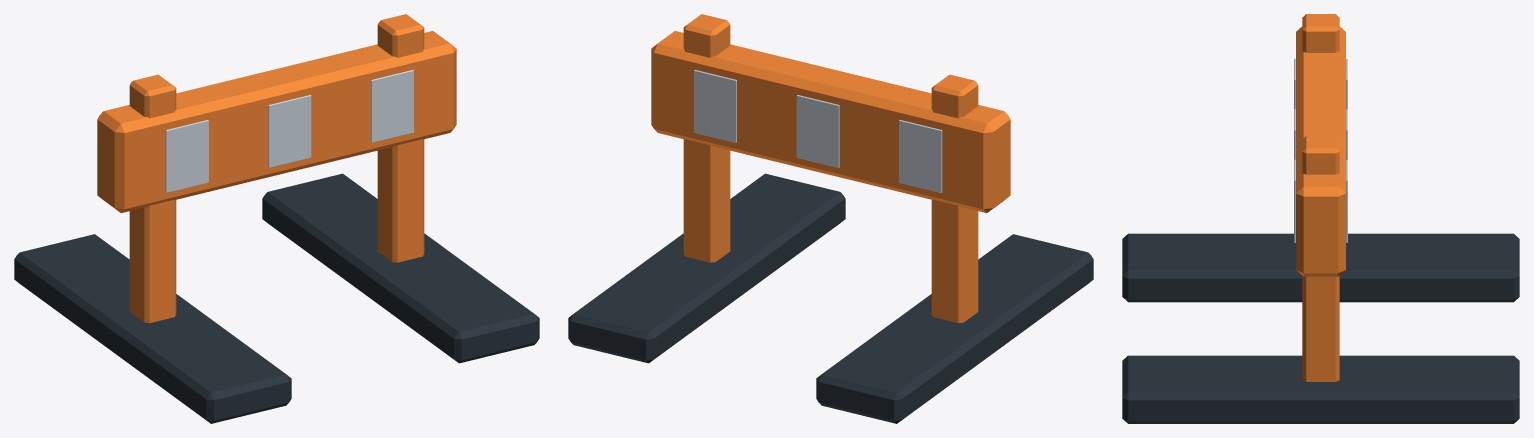
The model's file is obstacle.glb.
3 views of the same model, side by side, from view 1: azimuth 30°, elevation 25°; view 2: azimuth 150°, elevation 25°; view 3: azimuth 270°, elevation 25° (orthographic).
Visible parts, largest first — view 1: Obstacle_Geometry; view 2: Obstacle_Geometry; view 3: Obstacle_Geometry.
Boxes of the visible parts, left/top/right/bottom form: Obstacle_Geometry: left=14, top=14, right=539, bottom=423; Obstacle_Geometry: left=568, top=14, right=1093, bottom=423; Obstacle_Geometry: left=1122, top=14, right=1519, bottom=423.
Bounding box in the file's own units: 0.8 × 0.585 × 0.8.
